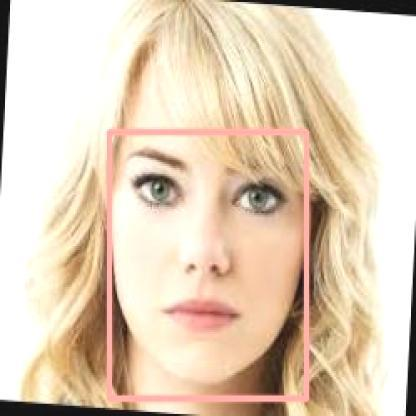without_mask: (109, 131, 306, 398)
